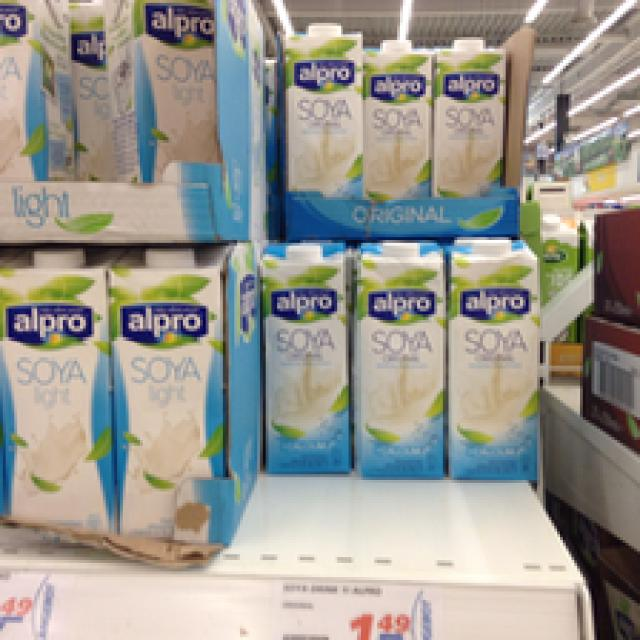groceries: (105, 243, 228, 546), (0, 246, 117, 543), (260, 234, 357, 477), (354, 240, 446, 480), (105, 0, 220, 191), (449, 234, 537, 483), (286, 17, 366, 200), (428, 37, 506, 200), (363, 29, 428, 197)
